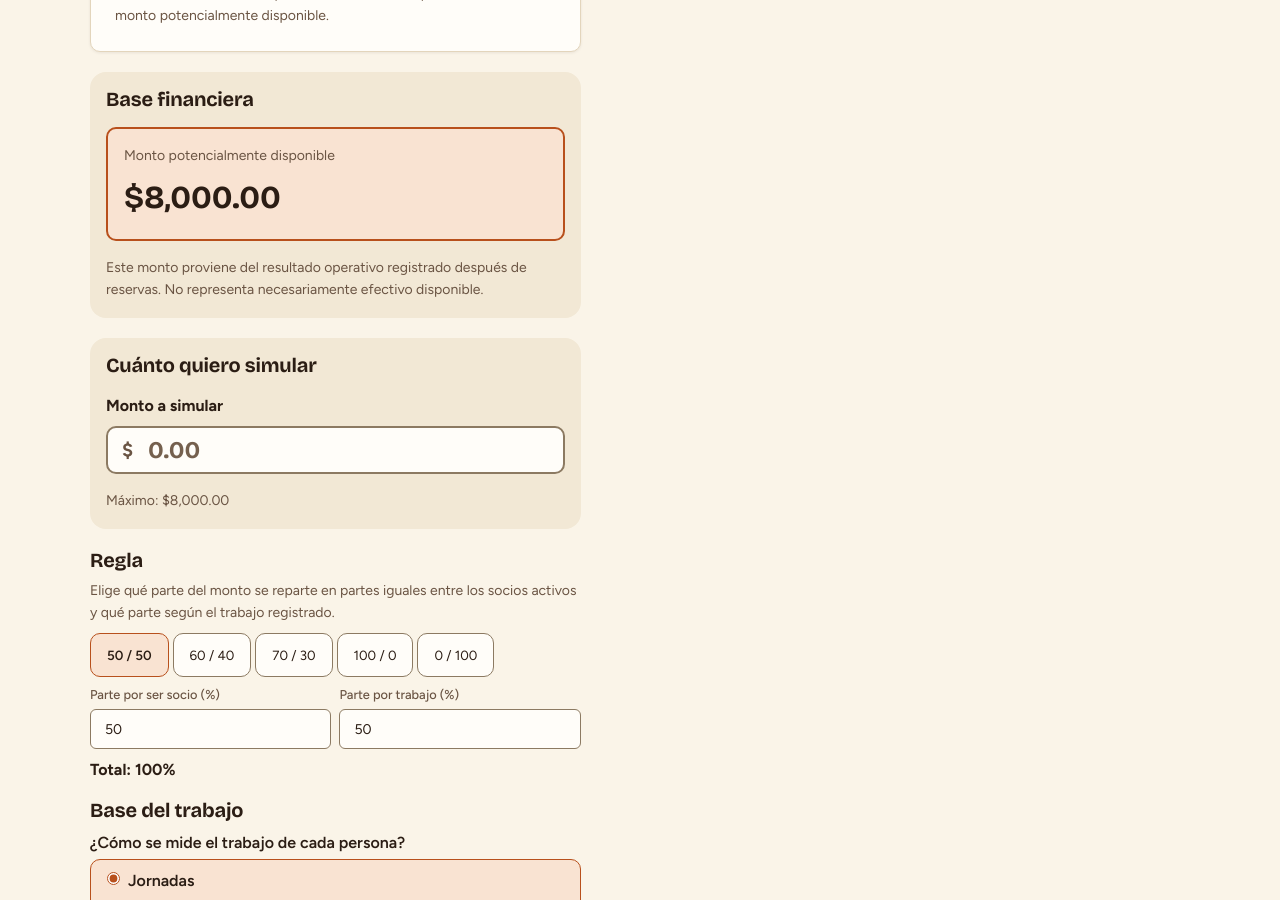
access, header and tabs › reloads an allowed mounted view after member attribution changes and ignores old requests
This screenshot has width=1280, height=900.
(page scrolled)
Type "6,000" into the field with id "sim-amount" at (335, 450), box [106,426,565,474]
Replace the text in the field with id "sim-partner" with "70" at (211, 729), box [90,709,332,749]
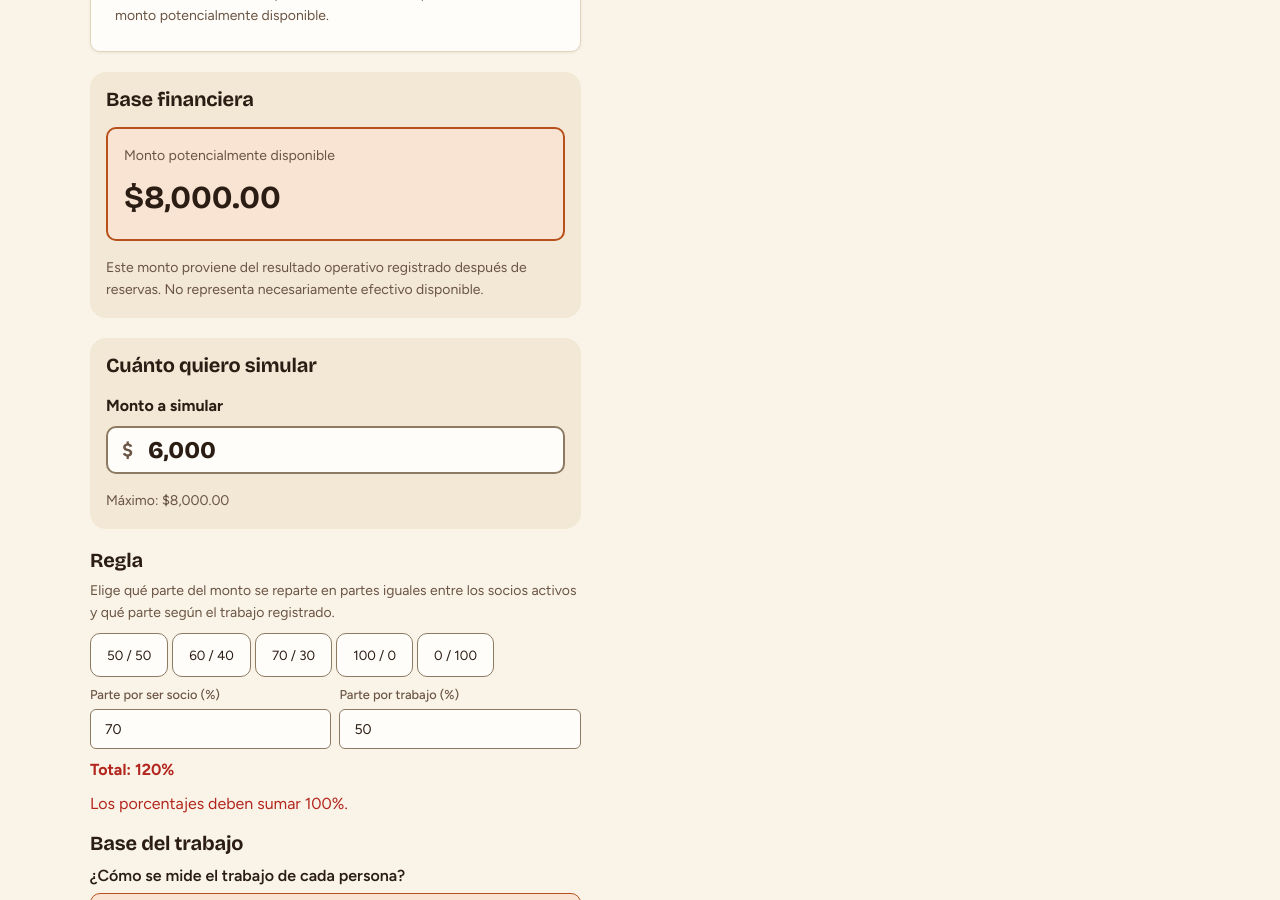
Replace the text in the field with id "sim-work" with "30" at (460, 729), box [340,709,581,749]
(page scrolled)
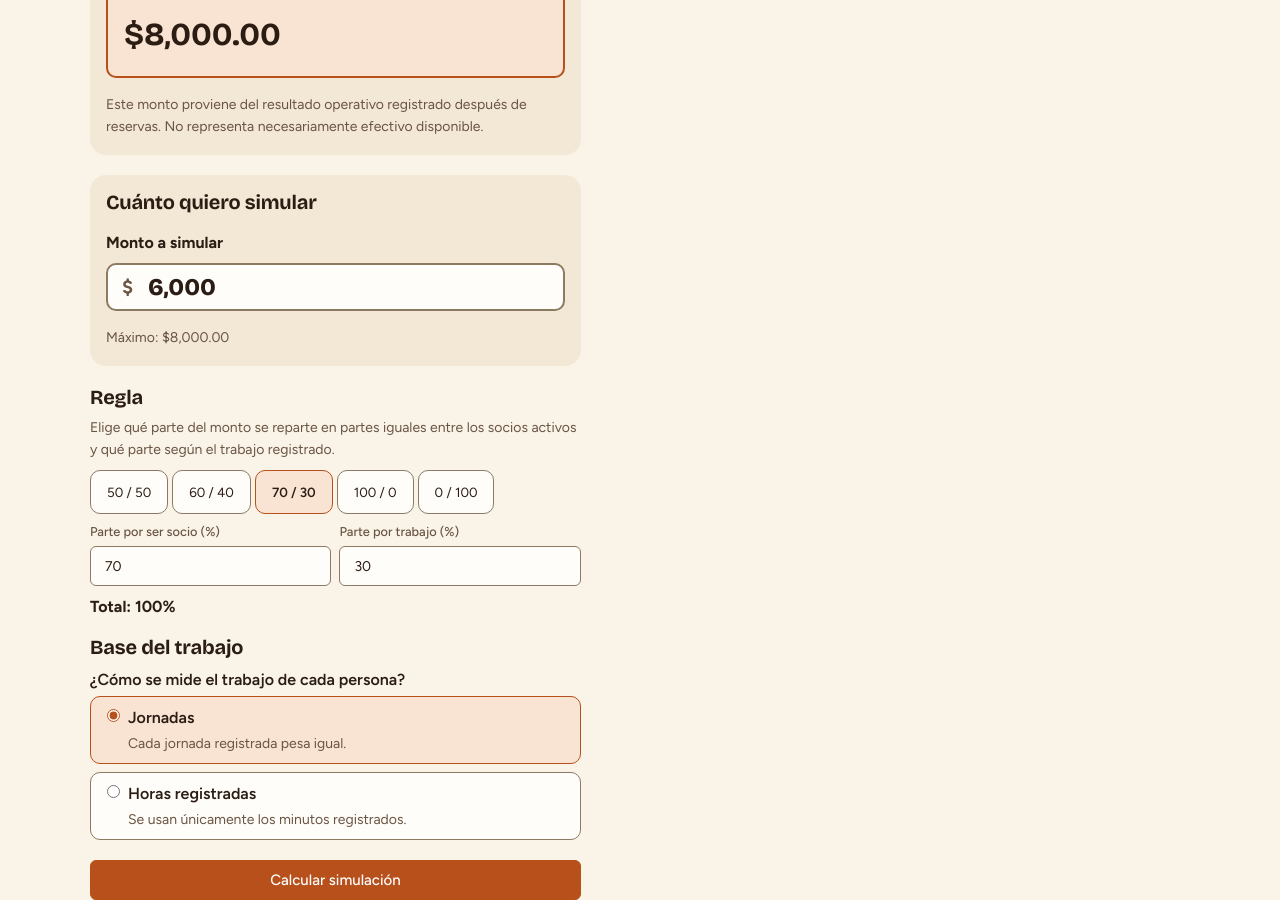
Click the 2nd radio button at (114, 792), box [107,785,120,798]
(page scrolled)
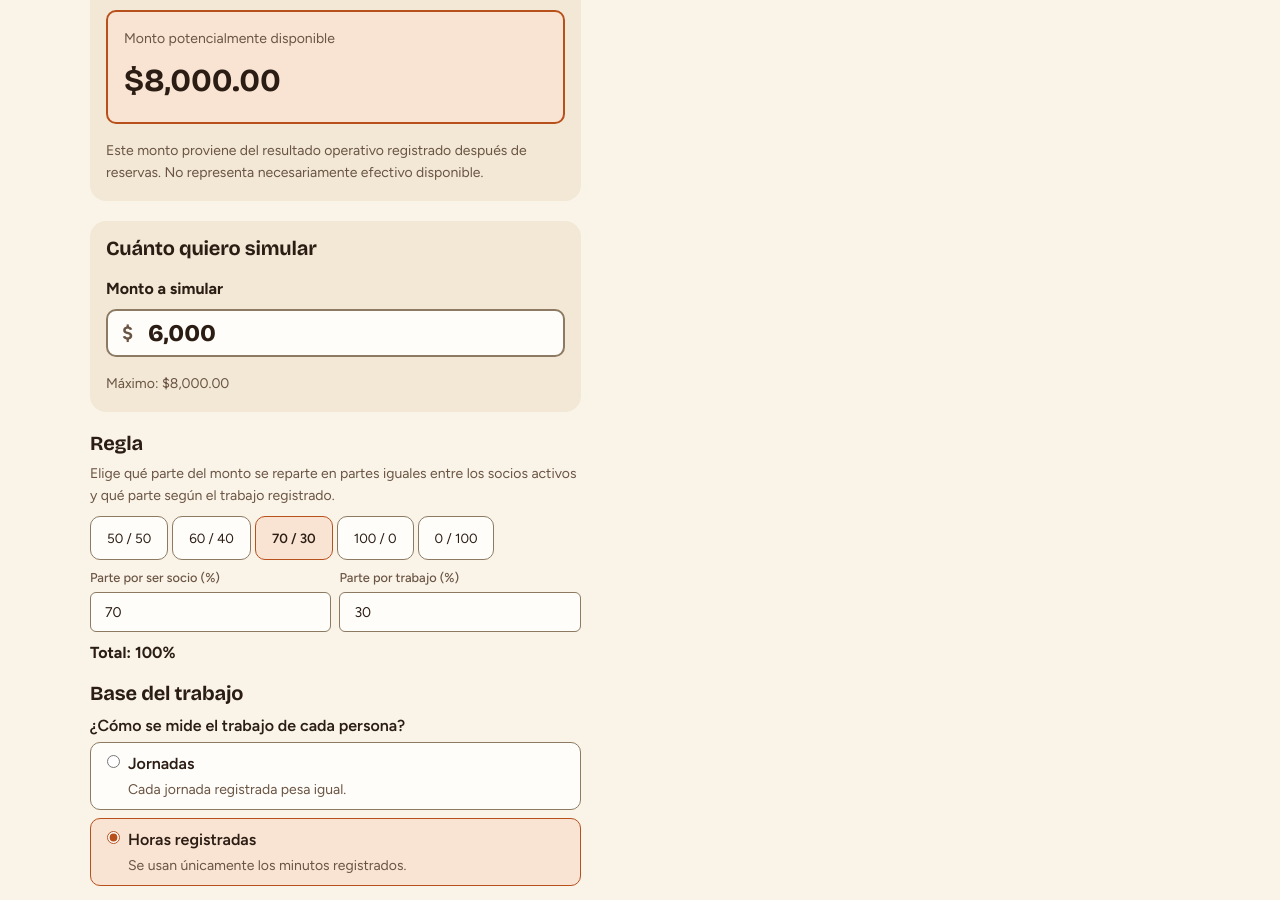
Submit the form
(page scrolled)
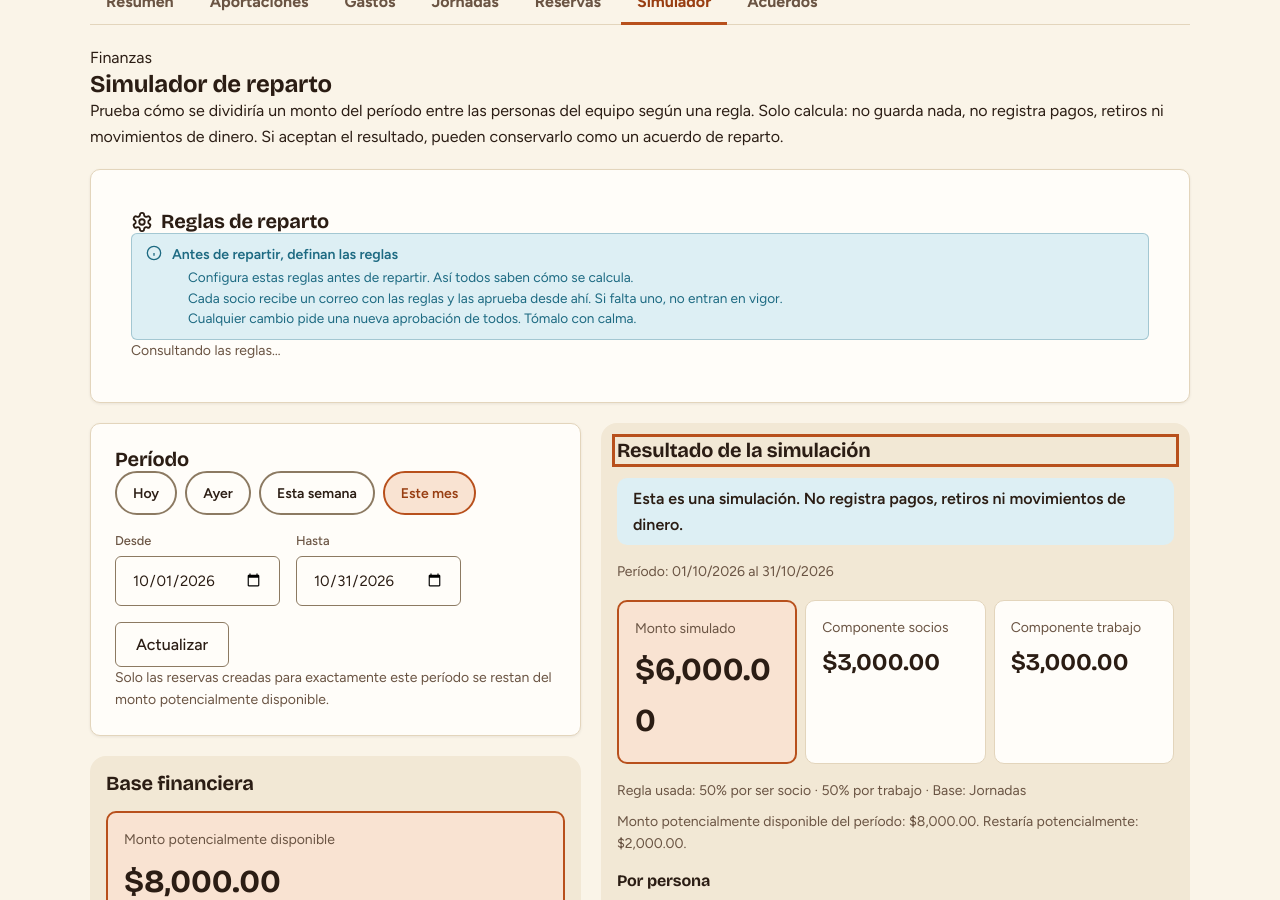
Submit the form with class "report-range-picker", box [115,471,476,667]
(page scrolled)
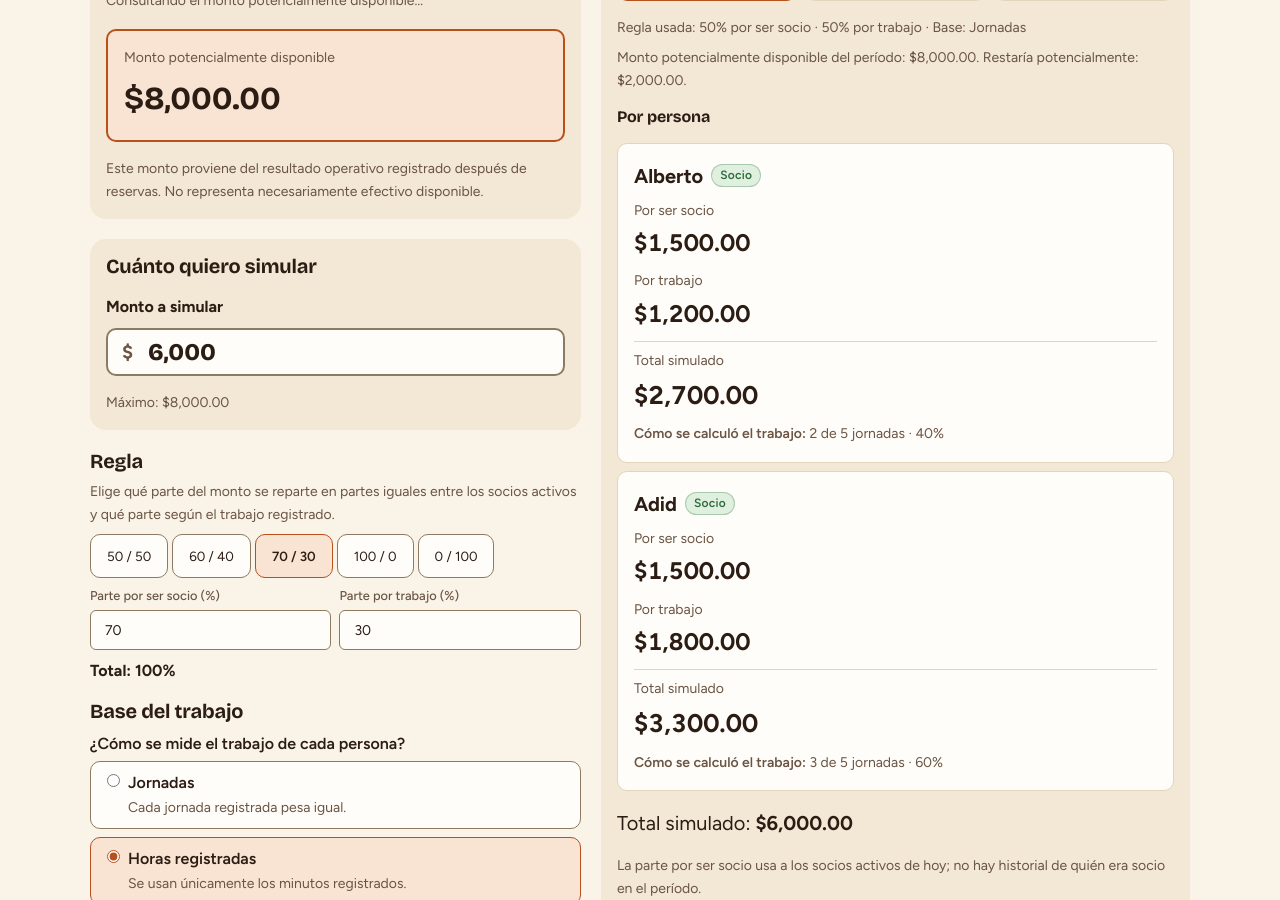
Submit the form
(page scrolled)
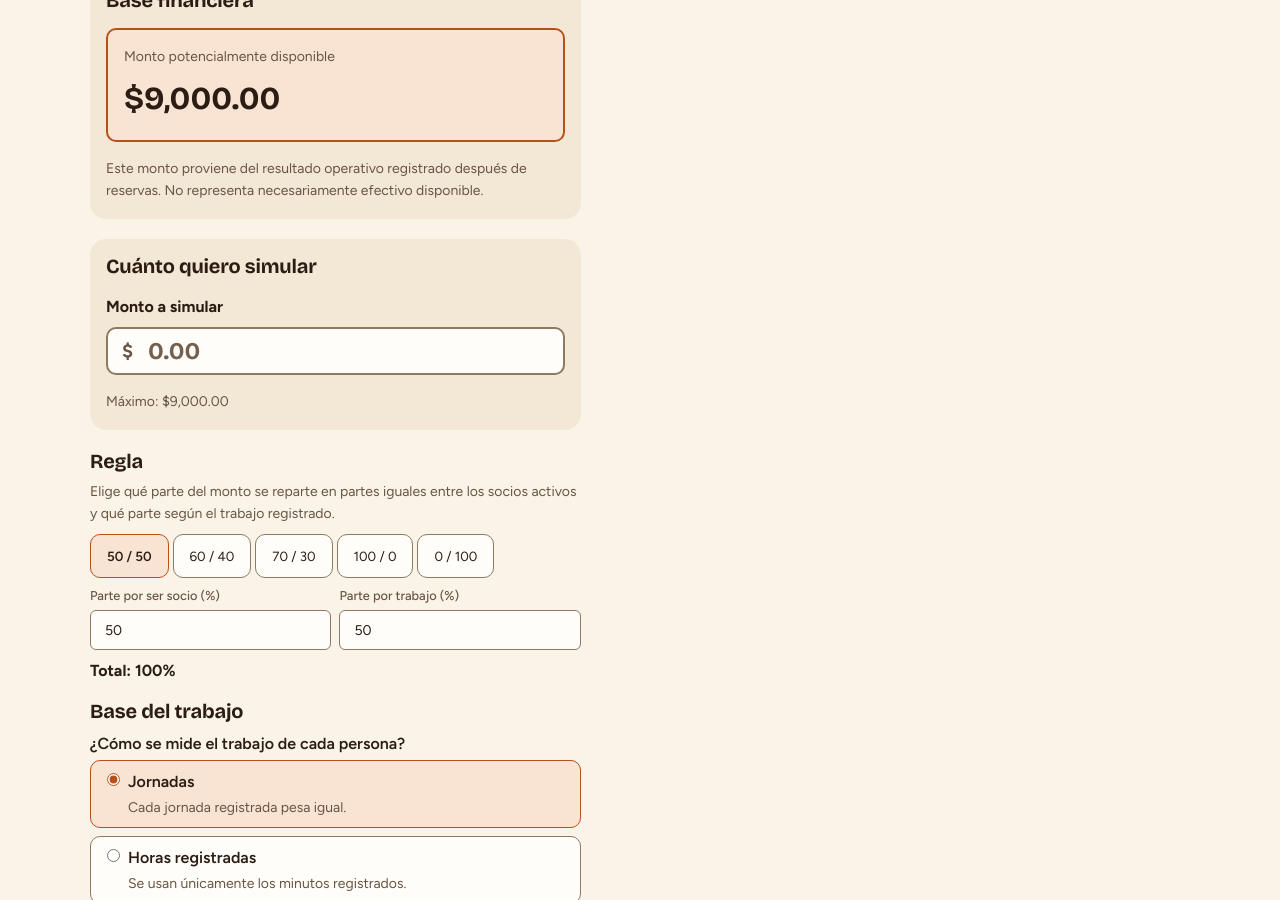
Result: the field with id "sim-amount" is empty at [106,327,565,375]
Result: the field with id "sim-partner" holds "50" at [90,610,332,650]
